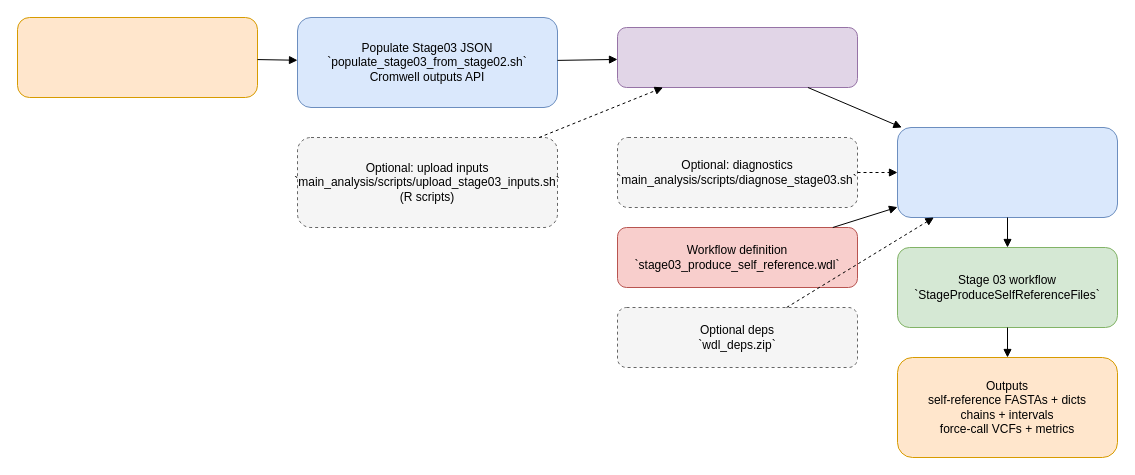
Some shapes in this 1135 by 475 pixel diagram are drawn without their labels. Each missing label, with the centre of its shape:
Stage02 outputs workflow ID -> outputs `split_vcf` `split_nuc_vcf`: point (137, 57)
Stage03 inputs `stage03_produce_self_reference.json`: point (737, 57)
Submit to Cromwell `submit_stage03.sh` POST /api/workflows/v1: point (1007, 172)
